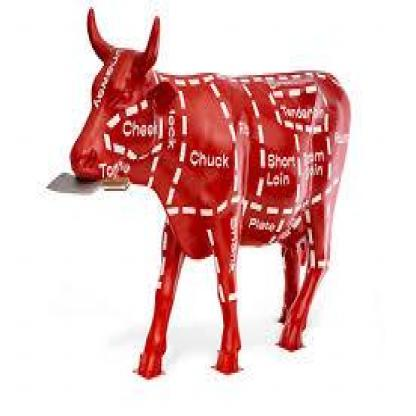cow: (71, 48, 350, 377)
